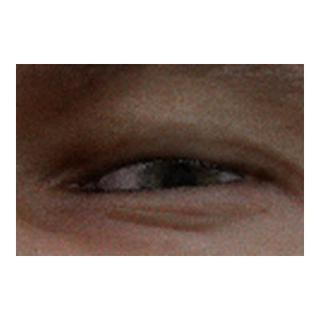pupil: (165, 166, 195, 197)
